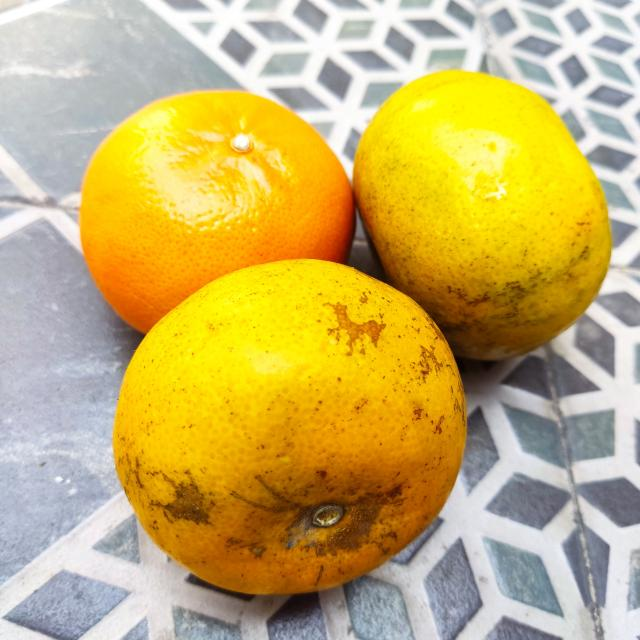orange: (109, 257, 468, 598), (352, 64, 612, 369)
